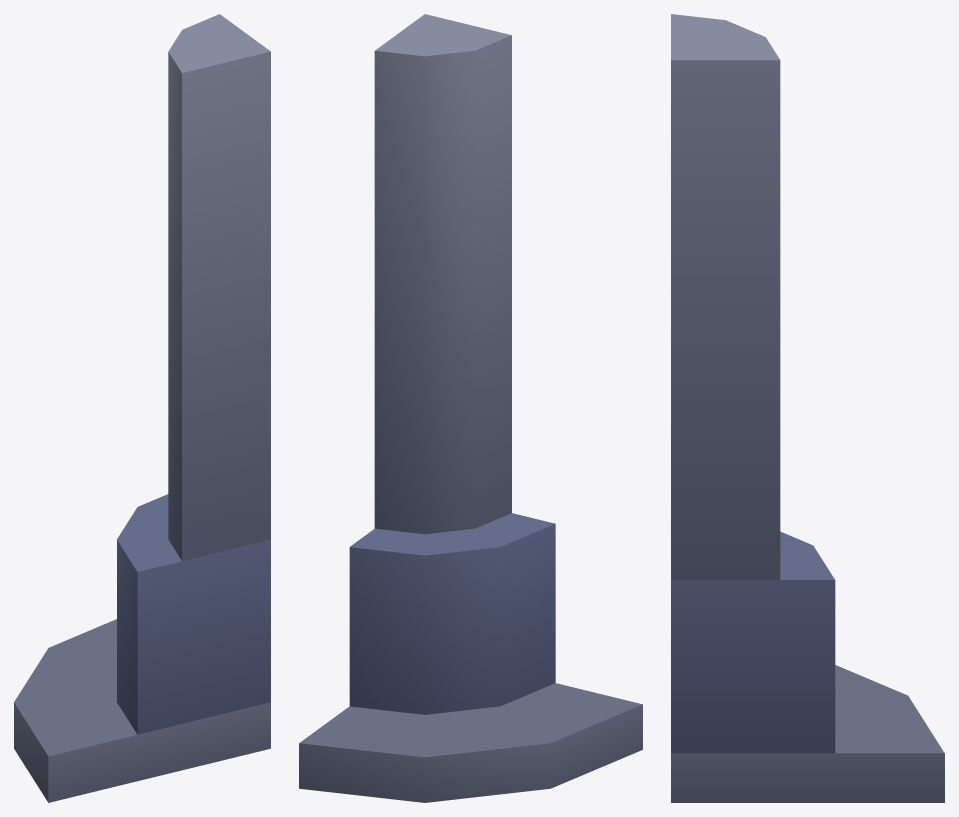
Rendered from template-wall-corner.glb.
3 views of the same model, side by side, from view 1: azimuth 30°, elevation 25°; view 2: azimuth 150°, elevation 25°; view 3: azimuth 270°, elevation 25° (orthographic). The views are drawn at different scales.
Parts seen in each view (by area): view 1: template-wall-corner; view 2: template-wall-corner; view 3: template-wall-corner.
Boxes of the visible parts, x1,y1,x2,y2 form: template-wall-corner: (14,14,270,802); template-wall-corner: (299,14,642,802); template-wall-corner: (671,14,944,802).
Bounding box in the file's own units: 1 × 3 × 1.
